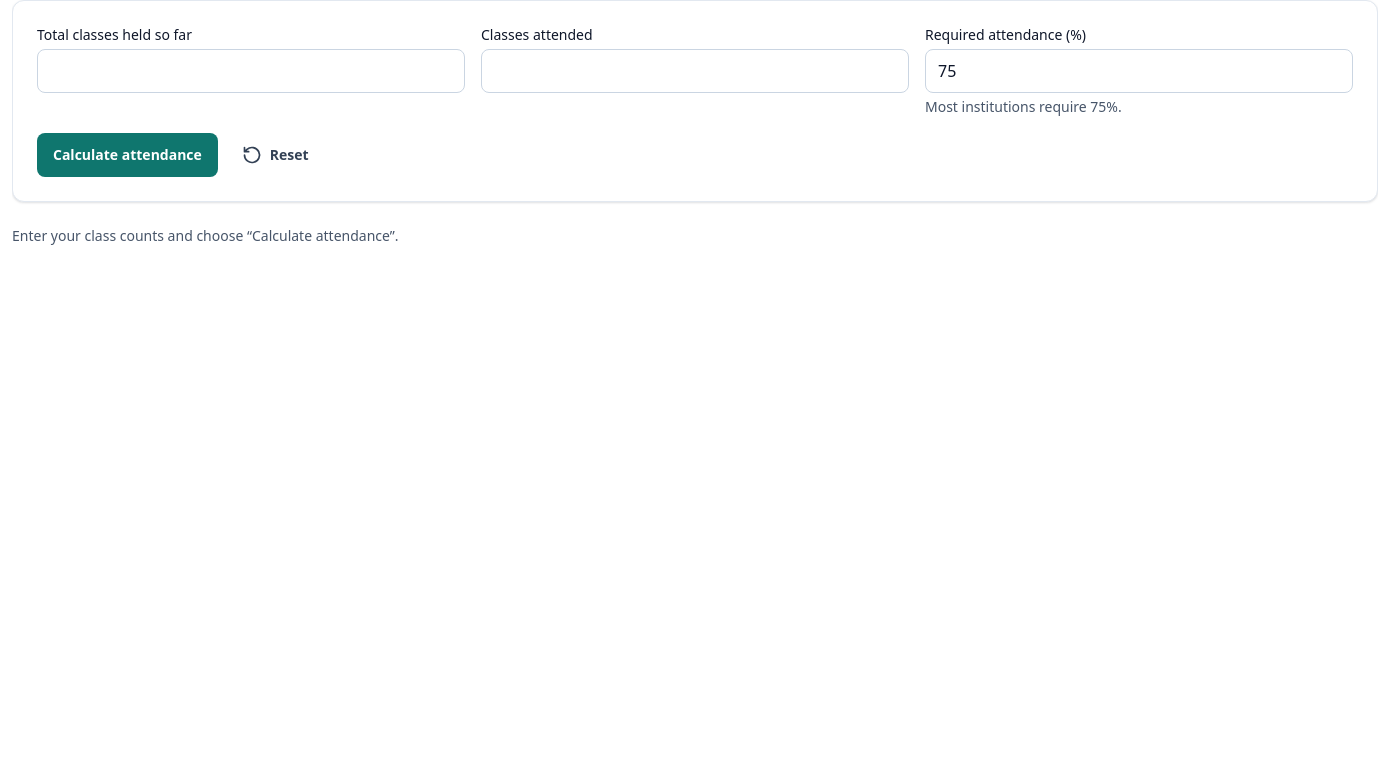
it: AttendanceCalculator › reports classes that can be missed
Type "50" into the field labelled "Total classes held so far" at (251, 71), box [37,49,465,93]
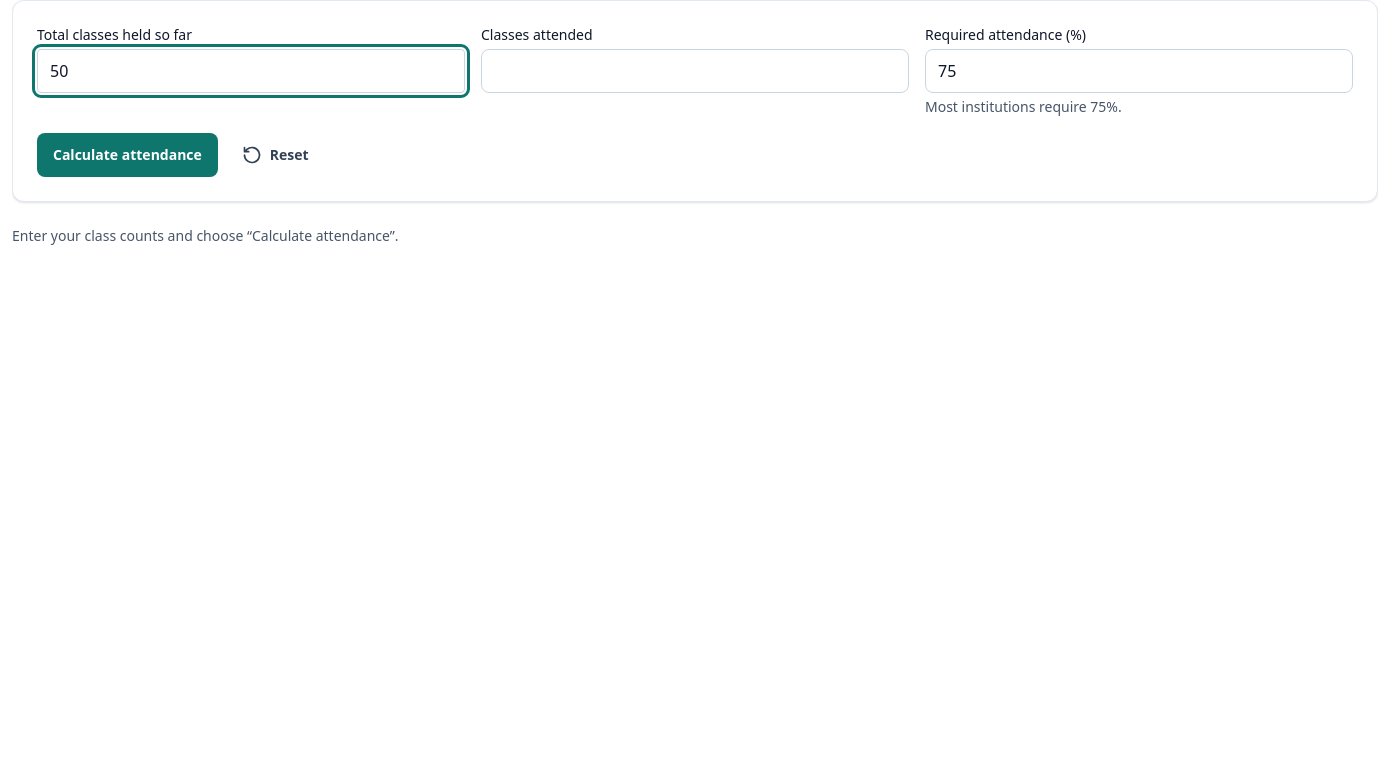
Type "42" into the field labelled "Classes attended" at (695, 71), box [481,49,909,93]
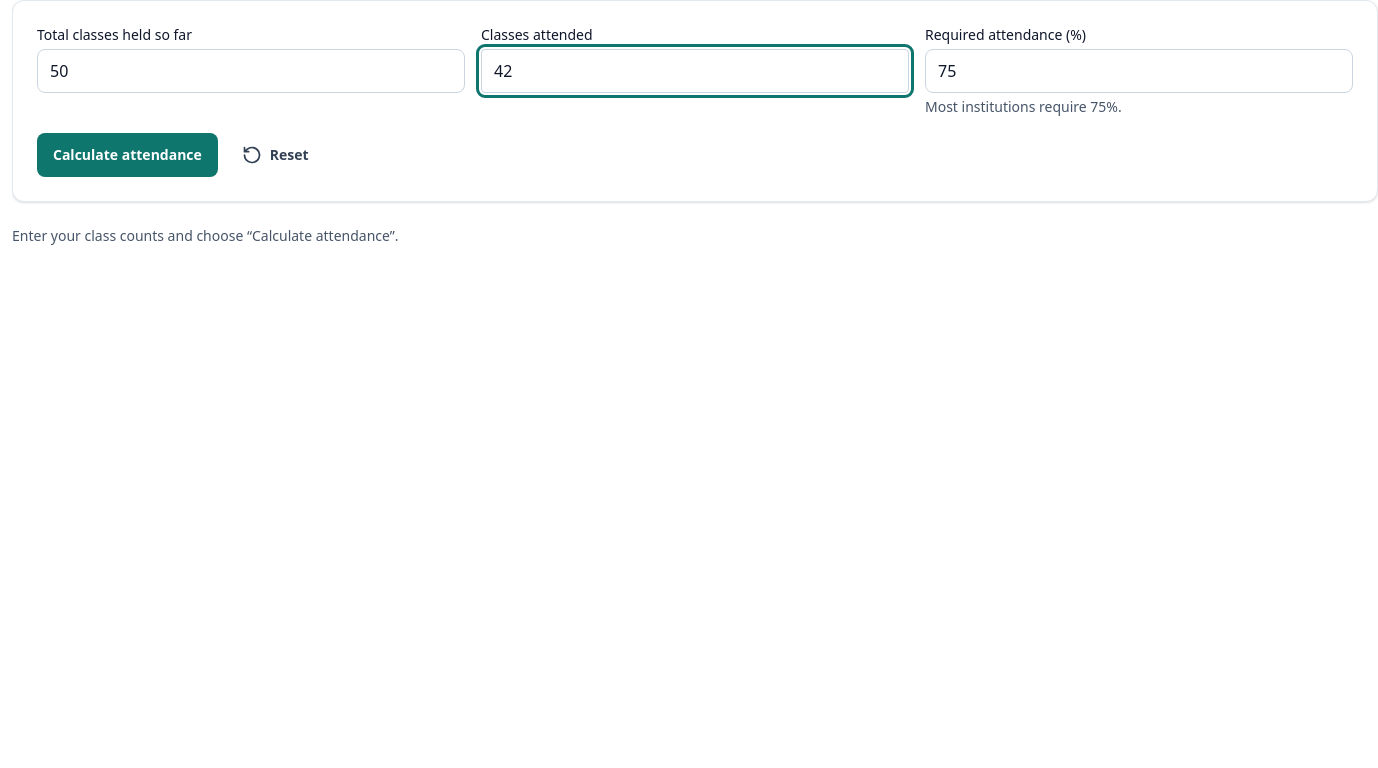
Click the button "Calculate attendance" at (127, 155), box [37,133,218,177]
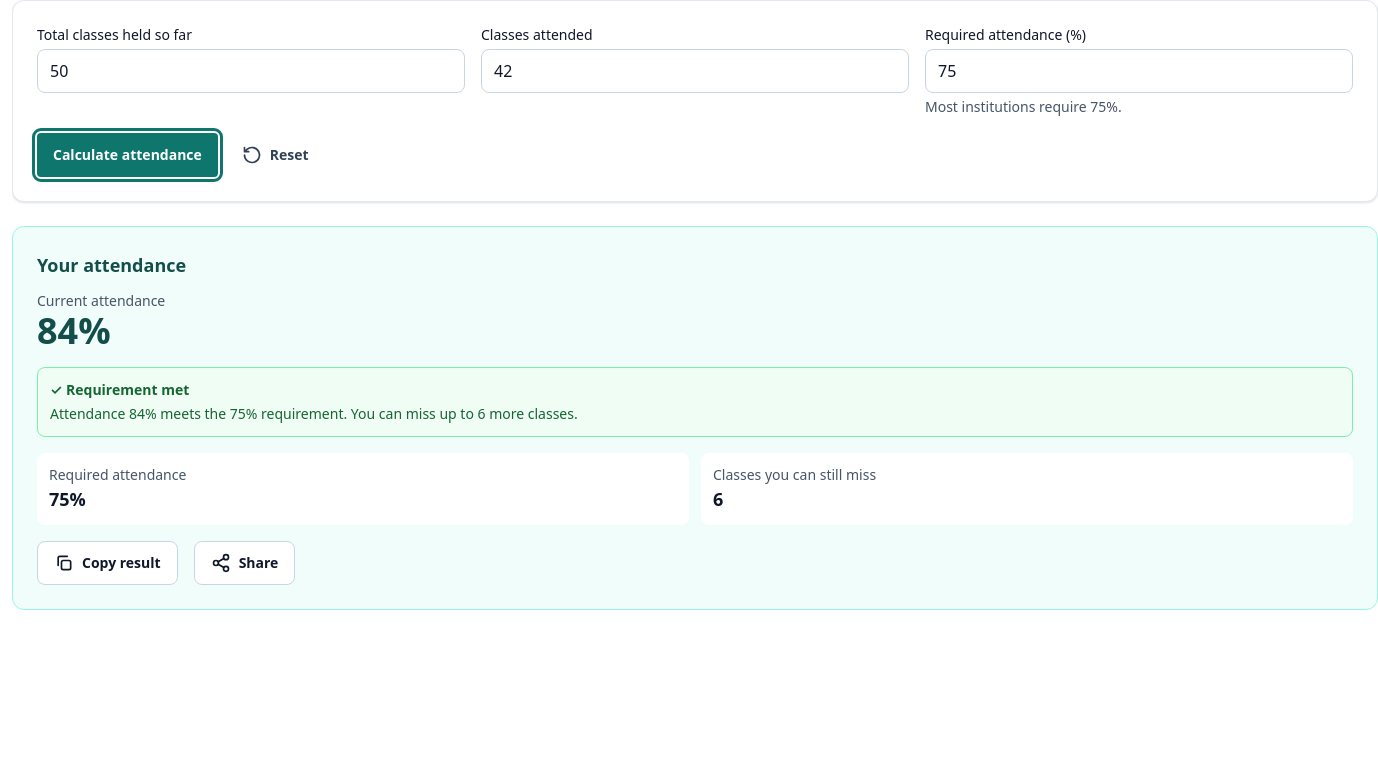
Expected: the text "84%" is shown, [37,306,111,355]
Expected: the text "Classes you can still miss" is shown, [713,465,876,484]
Expected: the text "6 more classes" is shown, [50,404,578,423]
